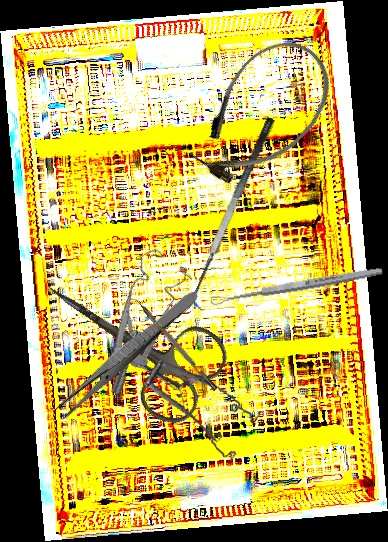Cannula: (173, 22, 351, 204)
Chopper: (127, 293, 218, 396)
Dressing Forceps: (51, 285, 202, 423)
Iris Scissors: (21, 242, 236, 435)
Spatula Surgical: (179, 116, 292, 312)
Speculum: (58, 240, 216, 398), (111, 350, 268, 465)
Surgical Spoon: (208, 265, 385, 307)
